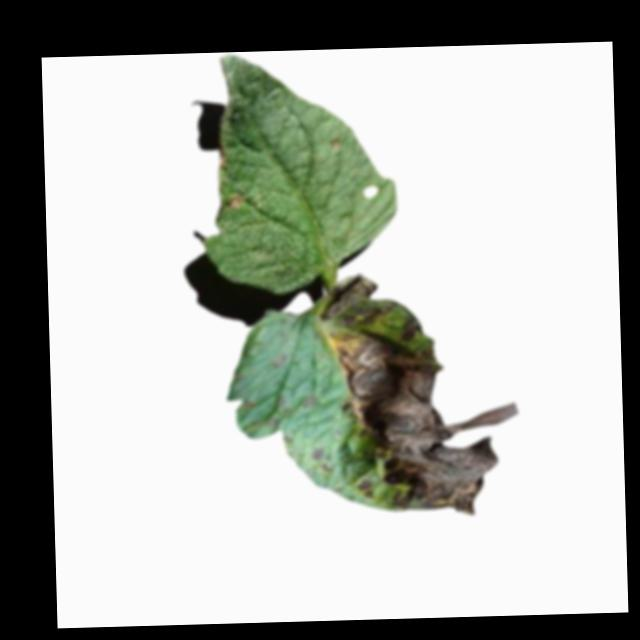Early_blight: (318, 271, 523, 520), (217, 141, 228, 170), (227, 191, 244, 209)
